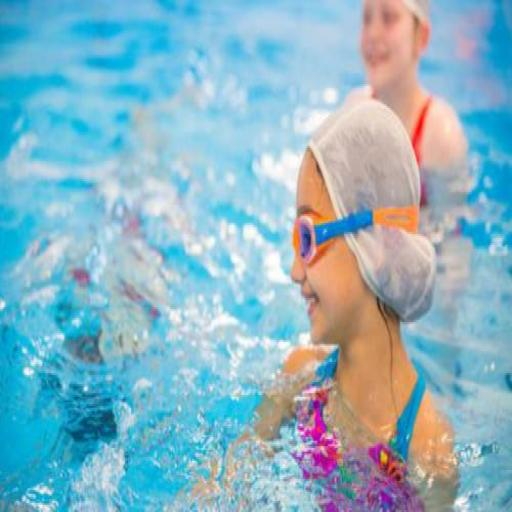swimming: (187, 97, 462, 510), (337, 0, 470, 205)
